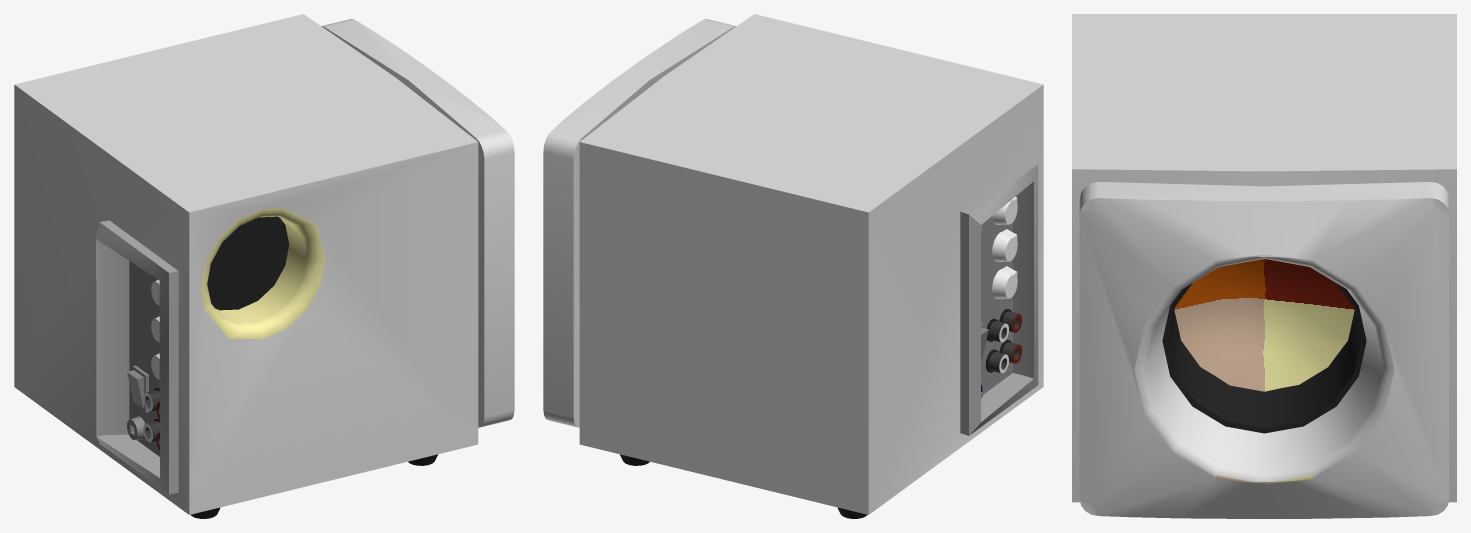
File: ParlanteBajos_LucasE_47170983.fbx
3 renders of one model, left to right at view 1: azimuth 30°, elevation 25°; view 2: azimuth 150°, elevation 25°; view 3: azimuth 270°, elevation 25°, orthographic. The views are drawn at different scales.
Parts seen in each view (by area): view 1: Parlante; view 2: Parlante; view 3: Parlante.
Part boxes in pixels (x1,y1,x2,y2): Parlante: [14, 14, 514, 518]; Parlante: [543, 14, 1043, 518]; Parlante: [1072, 14, 1456, 518].
Size of the model in its own units: 26.69 by 22.59 by 22.
Materials: 1 (1 with a texture image).
